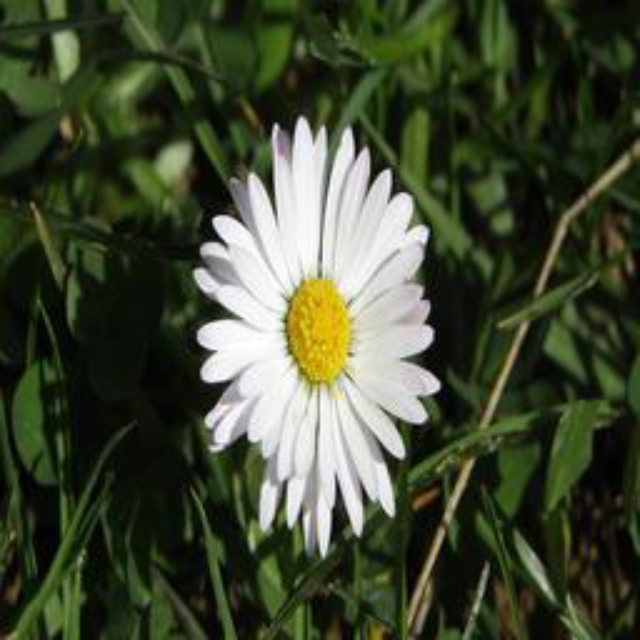daisy: (186, 116, 445, 574)
